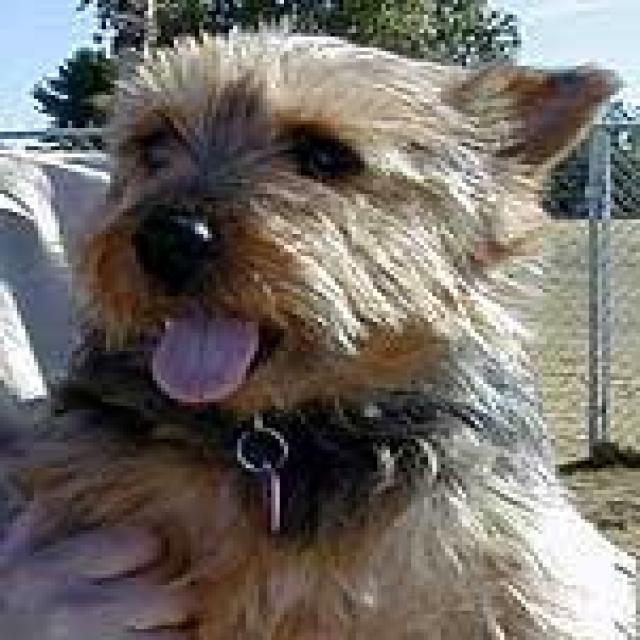dogs: (83, 28, 582, 640)
